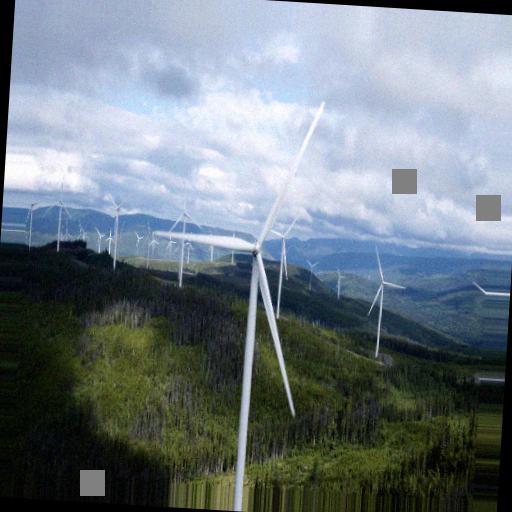wind turbine: (151, 100, 328, 477), (366, 246, 406, 360), (269, 215, 301, 321), (168, 193, 203, 287)
